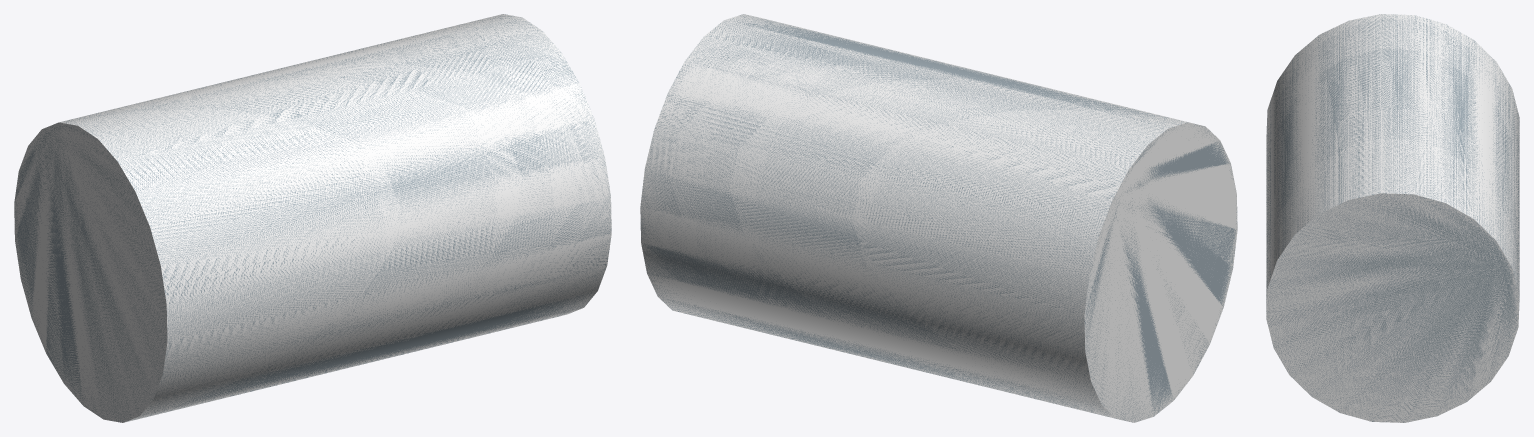
3 views of the same model, side by side, from view 1: azimuth 30°, elevation 25°; view 2: azimuth 150°, elevation 25°; view 3: azimuth 270°, elevation 25° (orthographic). The views are drawn at different scales.
Parts seen in each view (by area): view 1: Model; view 2: Model; view 3: Model.
Boxes of the visible parts, box(x1,y1,x2,y2) form: Model: box(14, 14, 611, 422); Model: box(640, 14, 1237, 422); Model: box(1266, 14, 1519, 422).
Bounding box in the file's own units: 240 × 143 × 143.
